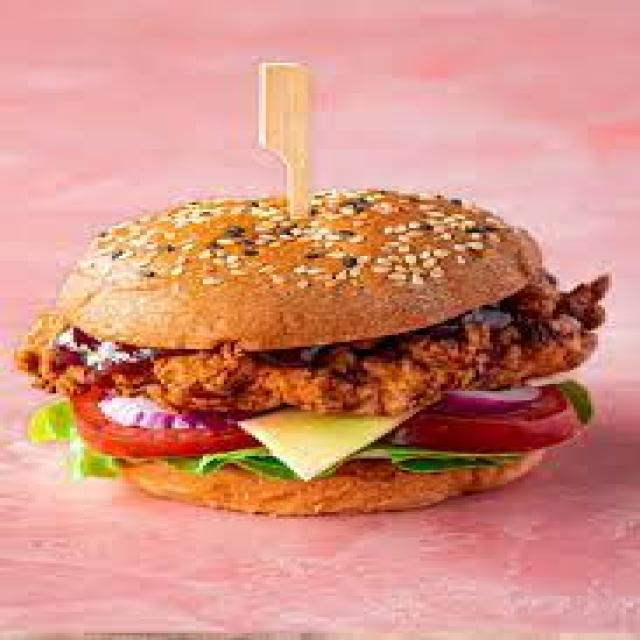햄버거: (17, 189, 612, 517)
